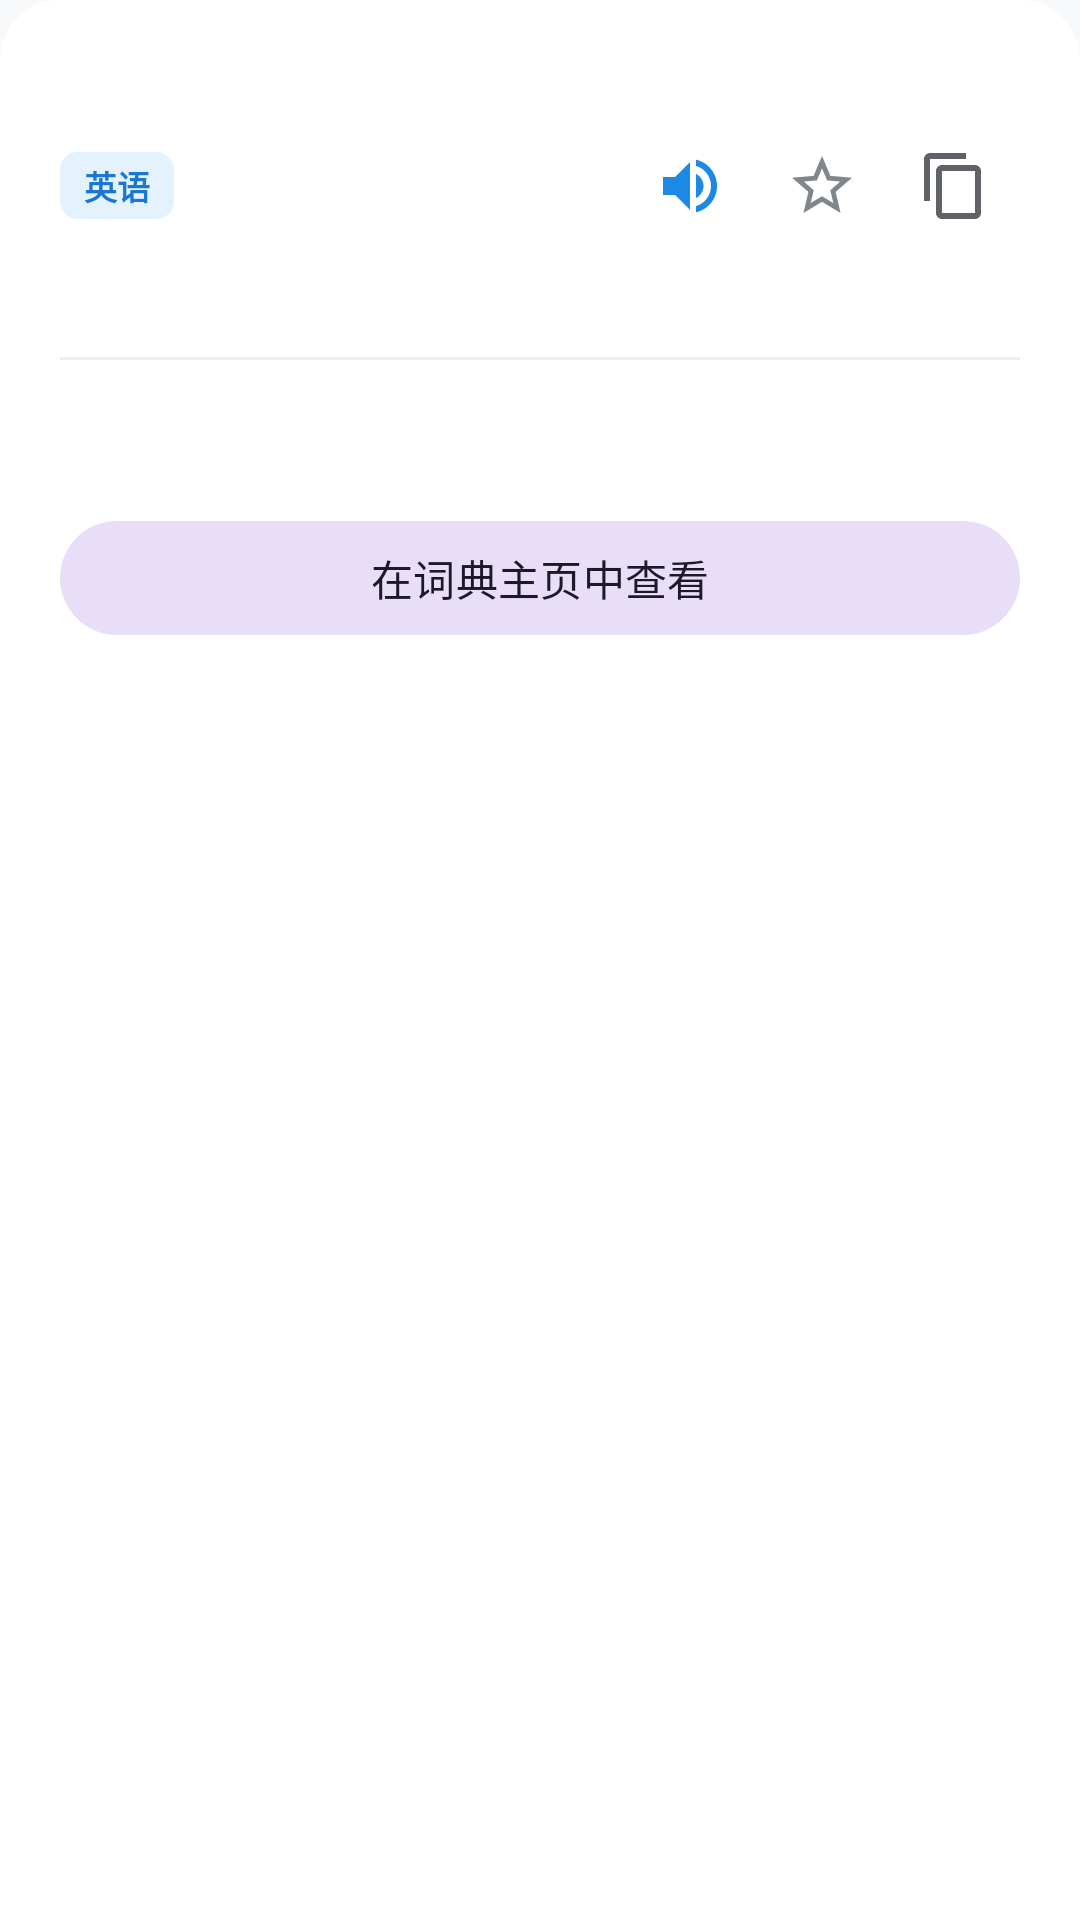

Screen size 1080×1920. Icon name, then its center in pixels as (x=x, y=y):
发音: (x=690, y=186)
复制: (x=952, y=186)
收藏: (x=822, y=185)
